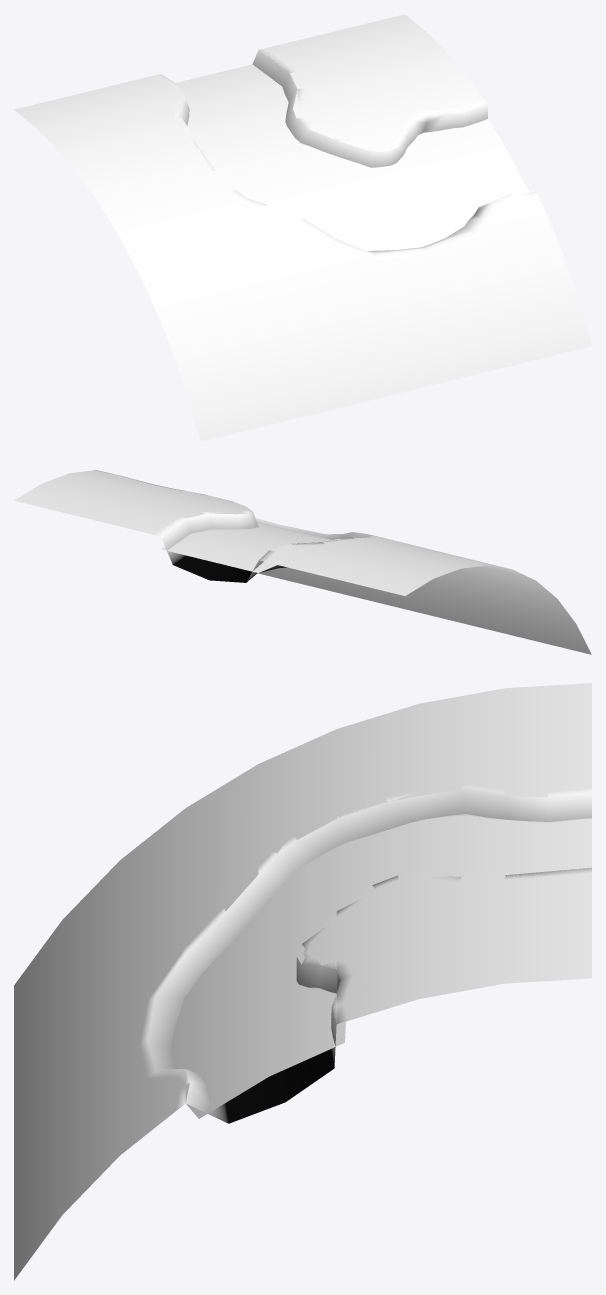
The model's file is grd_Rwn_2.dae.
The picture shows the model from 3 angles, top to bottom: view 1: azimuth 30°, elevation 25°; view 2: azimuth 150°, elevation 25°; view 3: azimuth 270°, elevation 25°; orthographic projection. The views are drawn at different scales.
Parts seen in each view (by area): view 1: grd_Rwn_2; view 2: grd_Rwn_2; view 3: grd_Rwn_2.
Part boxes in pixels (<box>): grd_Rwn_2: <box>14,14,591,441</box>; grd_Rwn_2: <box>14,470,591,654</box>; grd_Rwn_2: <box>14,683,591,1280</box>.
Size of the model in its own units: 512 by 244 by 423.
Materials: 4 (1 with a texture image).
